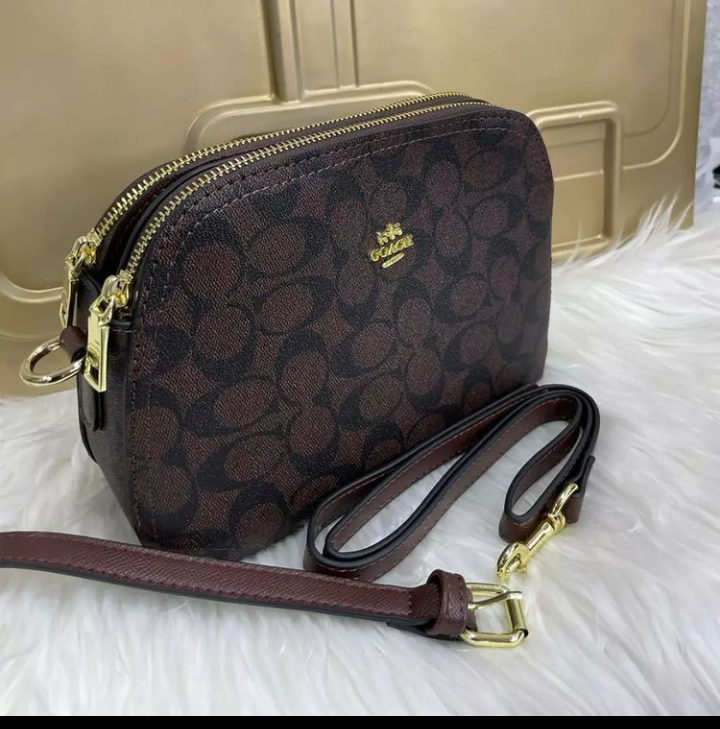cartera: (42, 85, 585, 578)
cuero: (212, 255, 373, 391)
